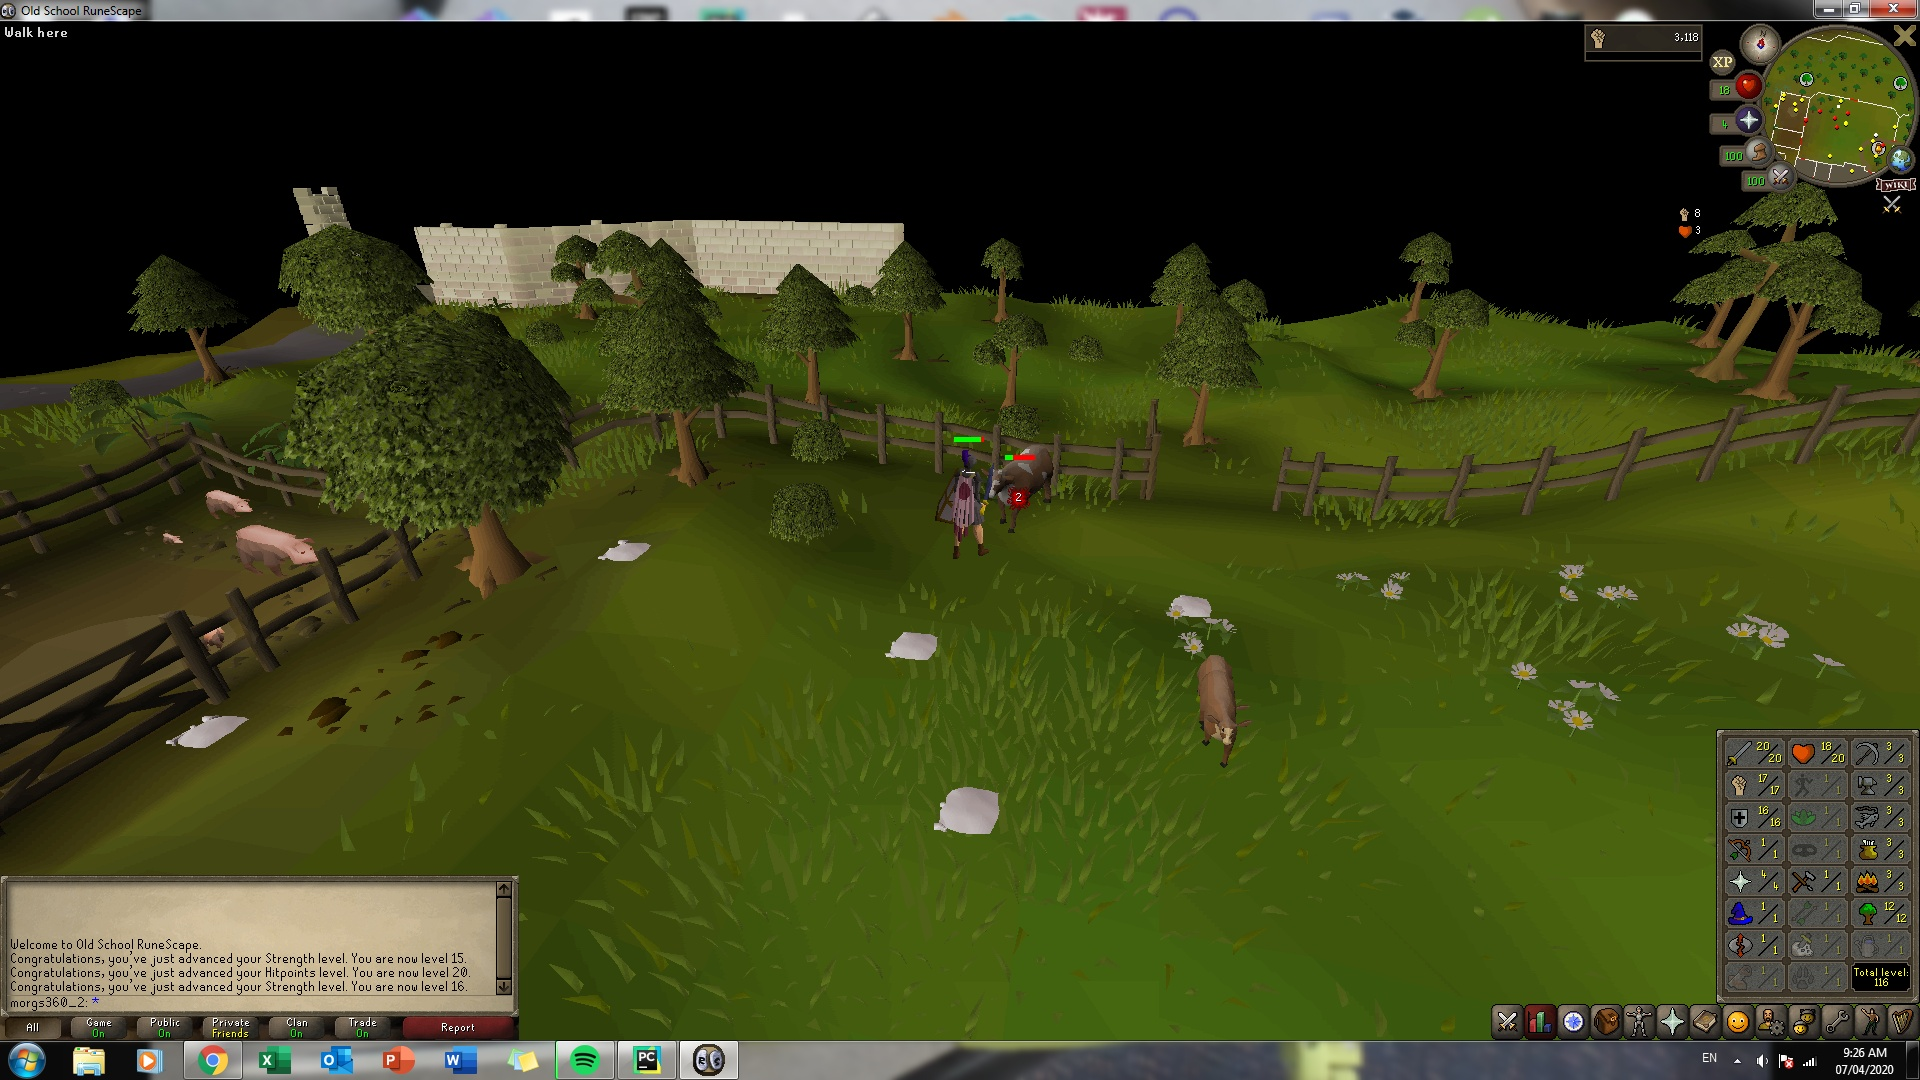cow: (982, 440, 1058, 536), (1195, 649, 1243, 768)
player: (950, 446, 989, 561)
